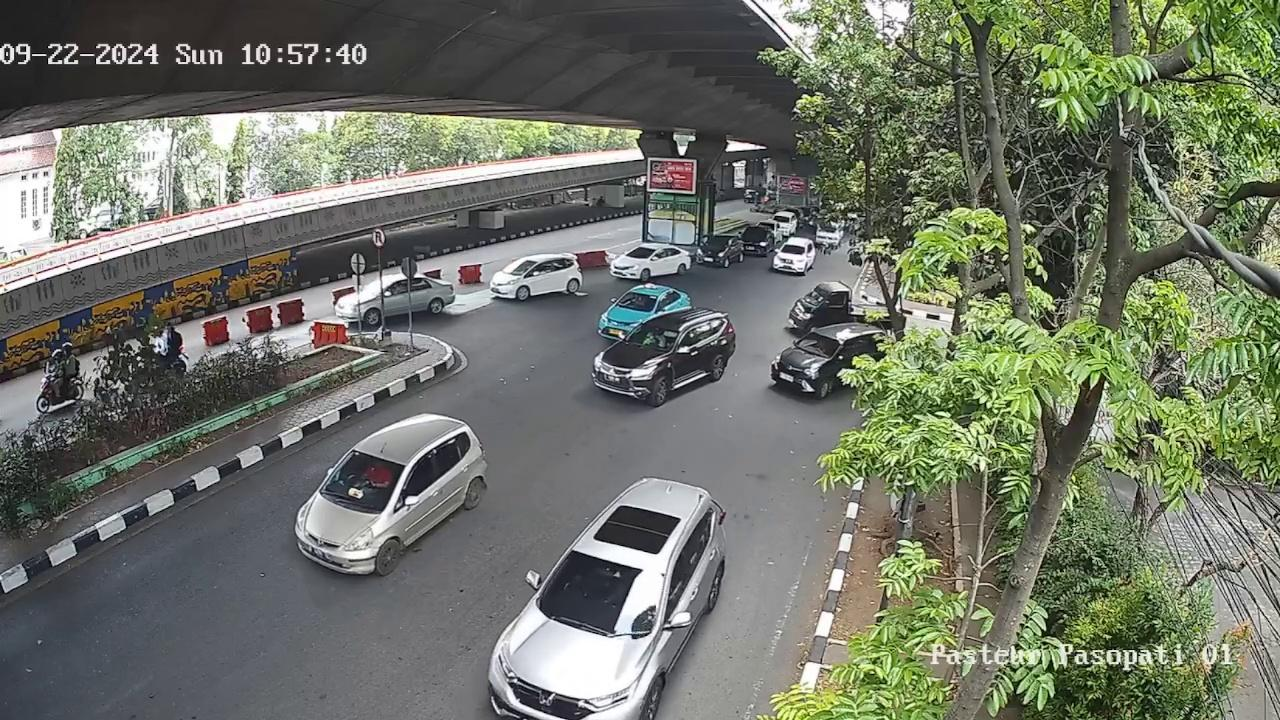tidak-pakai: (358, 462, 393, 489)
windshield: (536, 553, 667, 636), (322, 452, 409, 505), (628, 321, 679, 352), (798, 333, 840, 355), (617, 292, 656, 309)
